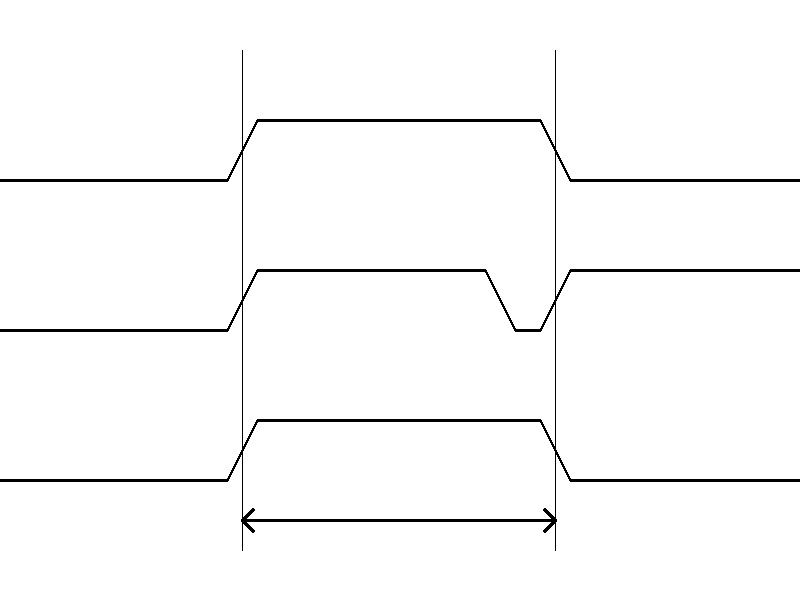double_arrow: (242, 505, 555, 535)
